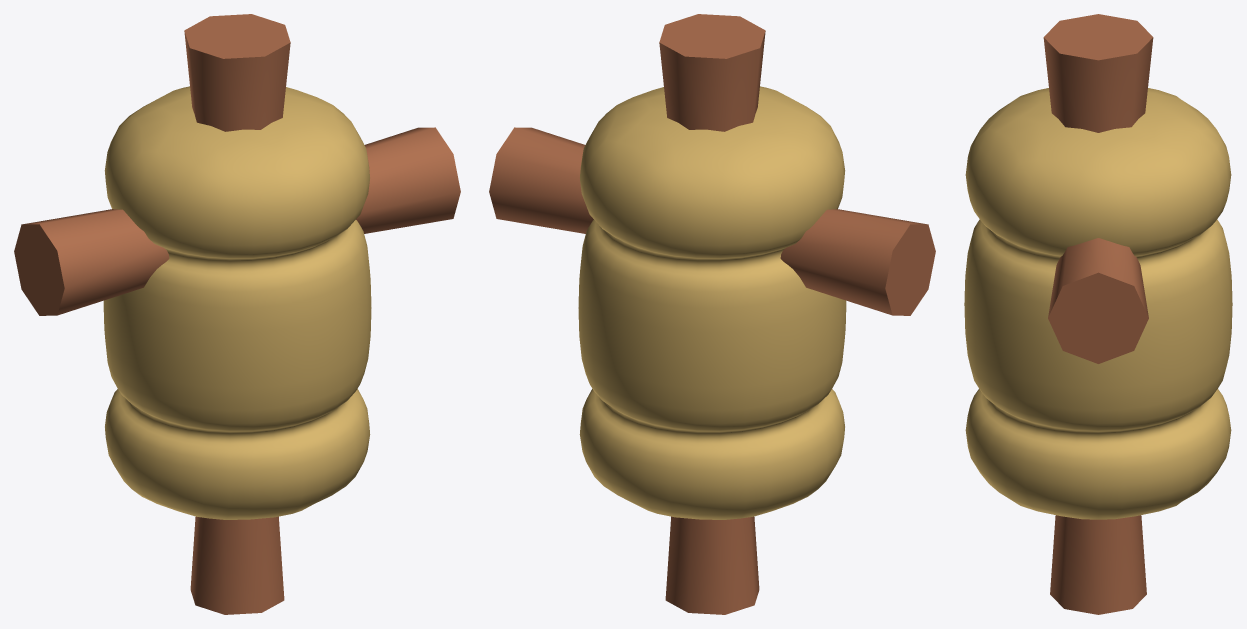
The model's file is Training_Doll.fbx.
3 renders of one model, left to right at view 1: azimuth 30°, elevation 25°; view 2: azimuth 150°, elevation 25°; view 3: azimuth 270°, elevation 25°, orthographic.
Visible parts, largest first — view 1: Training_Doll_Straw, Training_Doll_Wood; view 2: Training_Doll_Straw, Training_Doll_Wood; view 3: Training_Doll_Straw, Training_Doll_Wood.
Part boxes in pixels (box(x1,y1,x2,y2)): Training_Doll_Straw: box(103, 86, 371, 519); Training_Doll_Wood: box(14, 14, 460, 614); Training_Doll_Straw: box(578, 86, 846, 519); Training_Doll_Wood: box(489, 14, 935, 614); Training_Doll_Straw: box(964, 88, 1232, 519); Training_Doll_Wood: box(1043, 14, 1153, 614).
Bounding box in the file's own units: 1.91 × 2.57 × 1.12.
